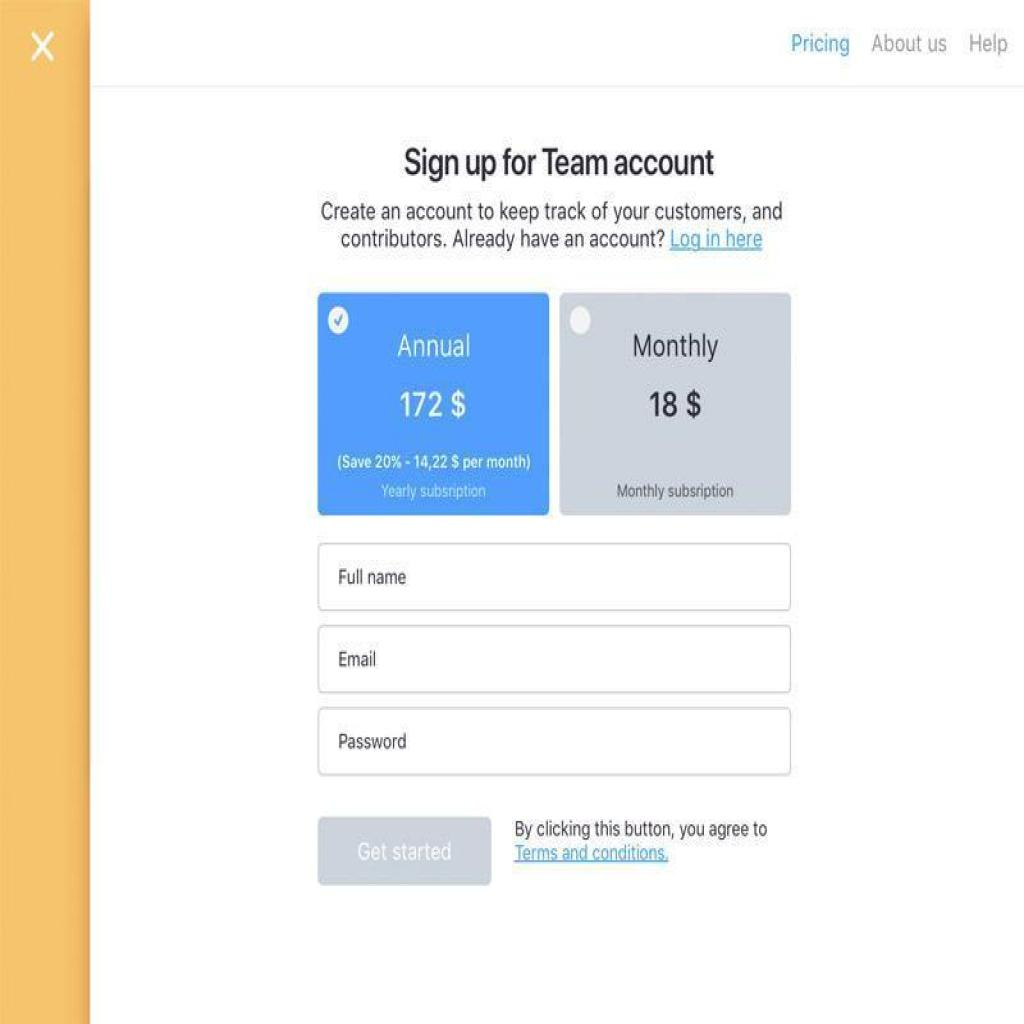button: (319, 817, 490, 886)
checkbox: (325, 302, 355, 338)
input: (317, 542, 790, 612), (319, 623, 791, 693), (317, 708, 790, 775)
radio: (567, 300, 593, 340)
